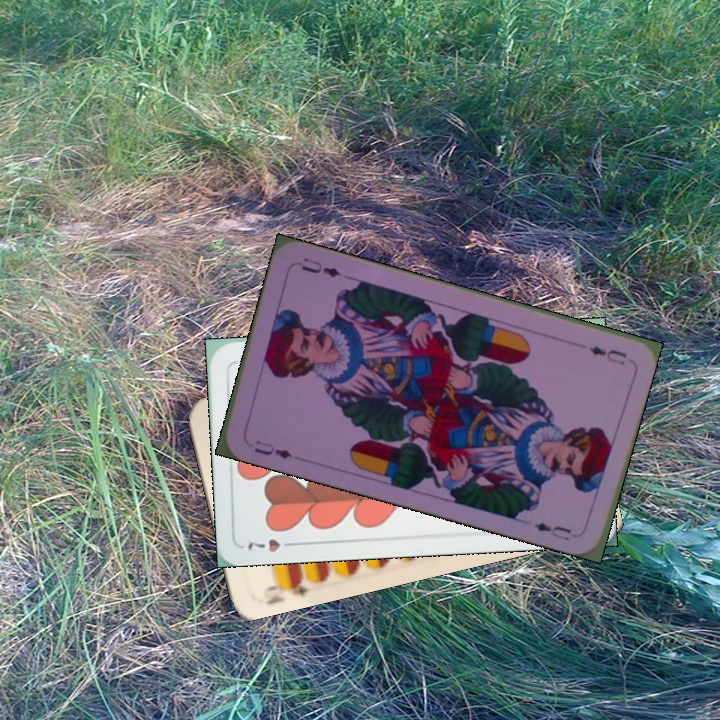E10: (261, 572, 311, 600)
EU: (250, 436, 295, 462), (585, 341, 629, 367)
H7: (243, 535, 300, 555)
